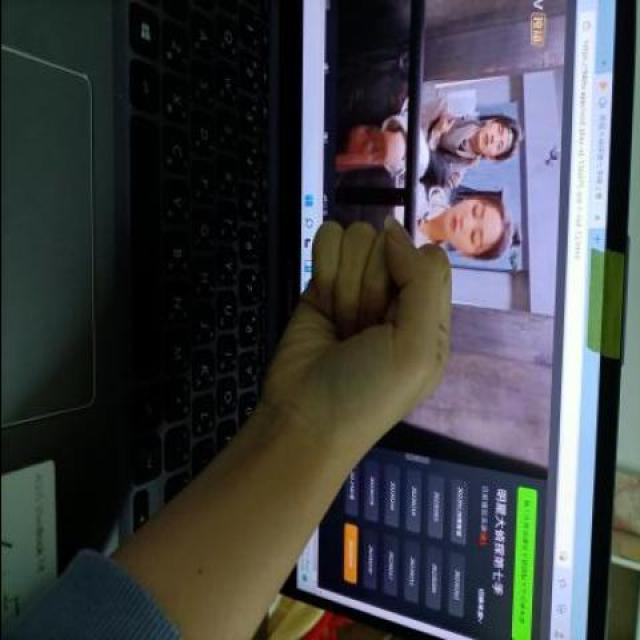Closed Hand: (241, 211, 467, 458)
